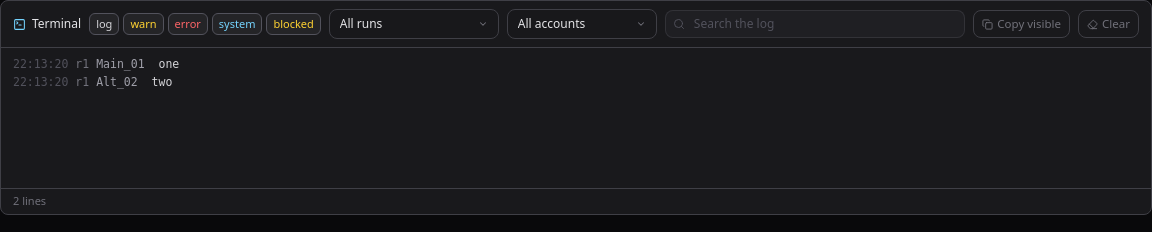
PythonTerminal › filters by account
Check: the text "two" is shown, box [152,75,172,89]
Click the button with aria-label "Filter by account" at [582, 24], box [507,9,657,39]
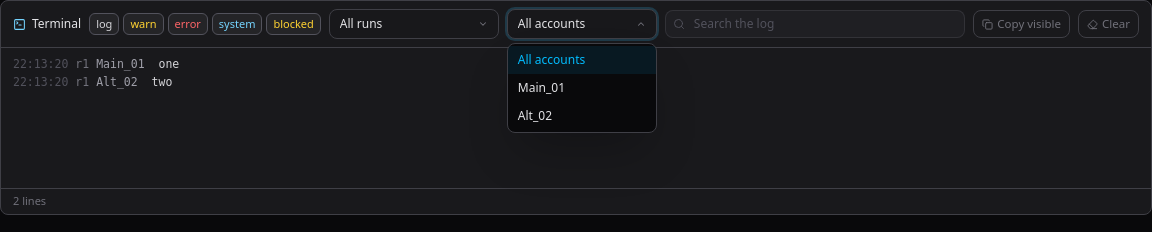
Click the button "Alt_02" at [582, 116], box [508,102,656,130]
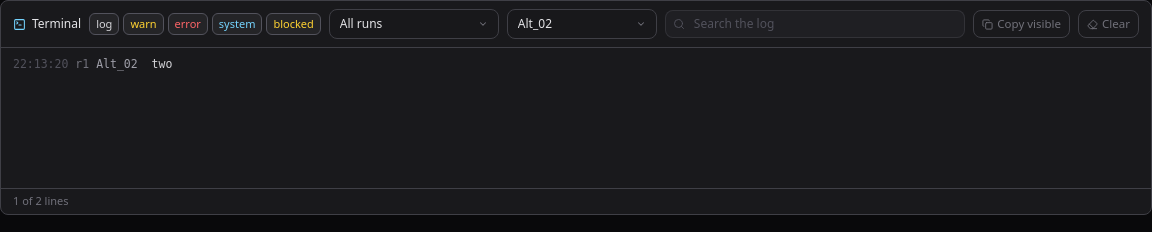
Check: the text "two" is shown, box [152,57,172,71]
Check: the text "one" is gone
